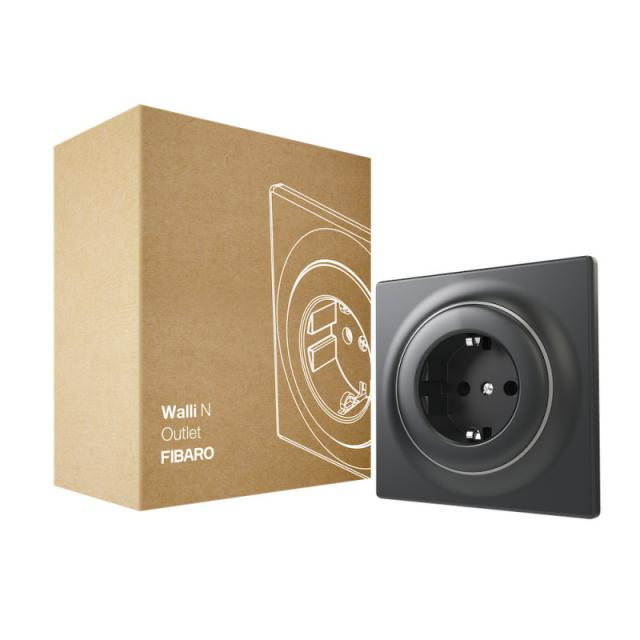typeb: (398, 231, 609, 534)
